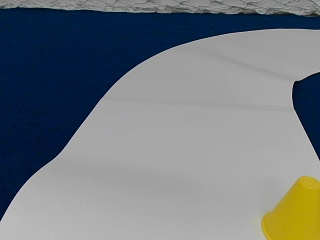cone: (261, 177, 319, 238)
